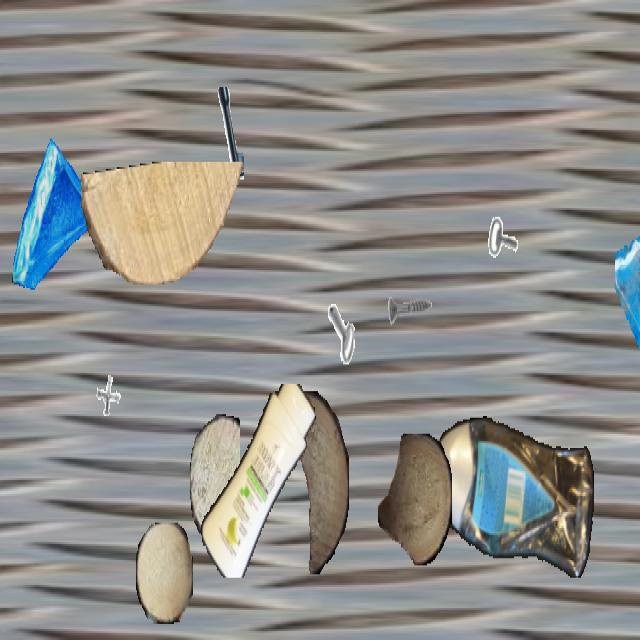glass: (10, 137, 104, 304), (615, 231, 640, 398)
metal: (186, 87, 244, 190), (327, 270, 381, 366), (386, 270, 432, 352), (90, 361, 130, 432), (488, 192, 528, 263), (630, 359, 640, 448)
plastic: (433, 414, 593, 585), (198, 384, 320, 576)
wood: (81, 162, 247, 282), (277, 391, 349, 573), (378, 434, 452, 565), (190, 414, 240, 542), (136, 523, 192, 622)
